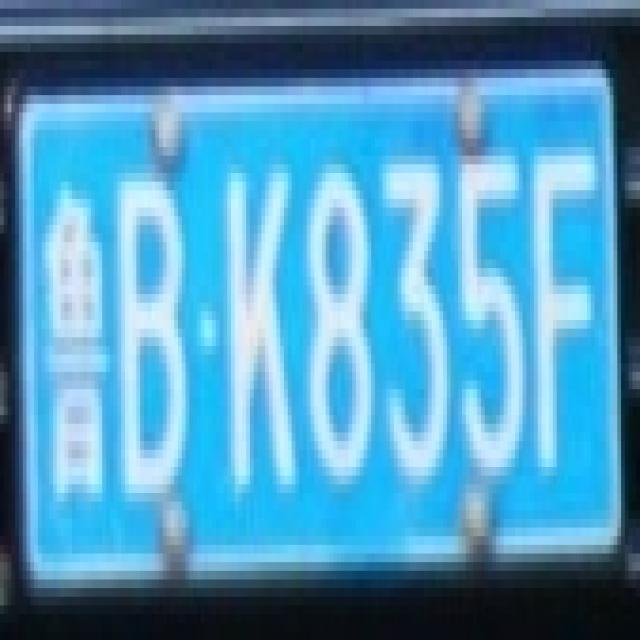3: (371, 130, 451, 476)
5: (443, 121, 530, 467)
8: (288, 138, 379, 484)
B: (95, 138, 197, 493)
F: (514, 121, 598, 476)
K: (200, 138, 300, 493)
